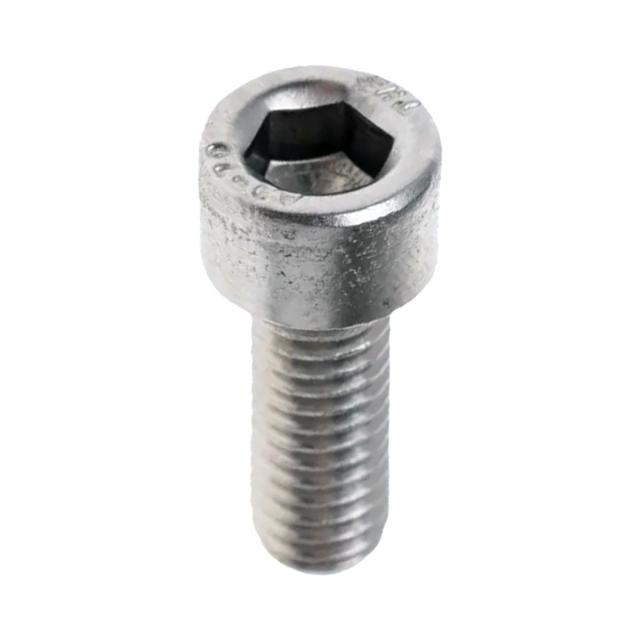allen: (241, 98, 400, 196)
